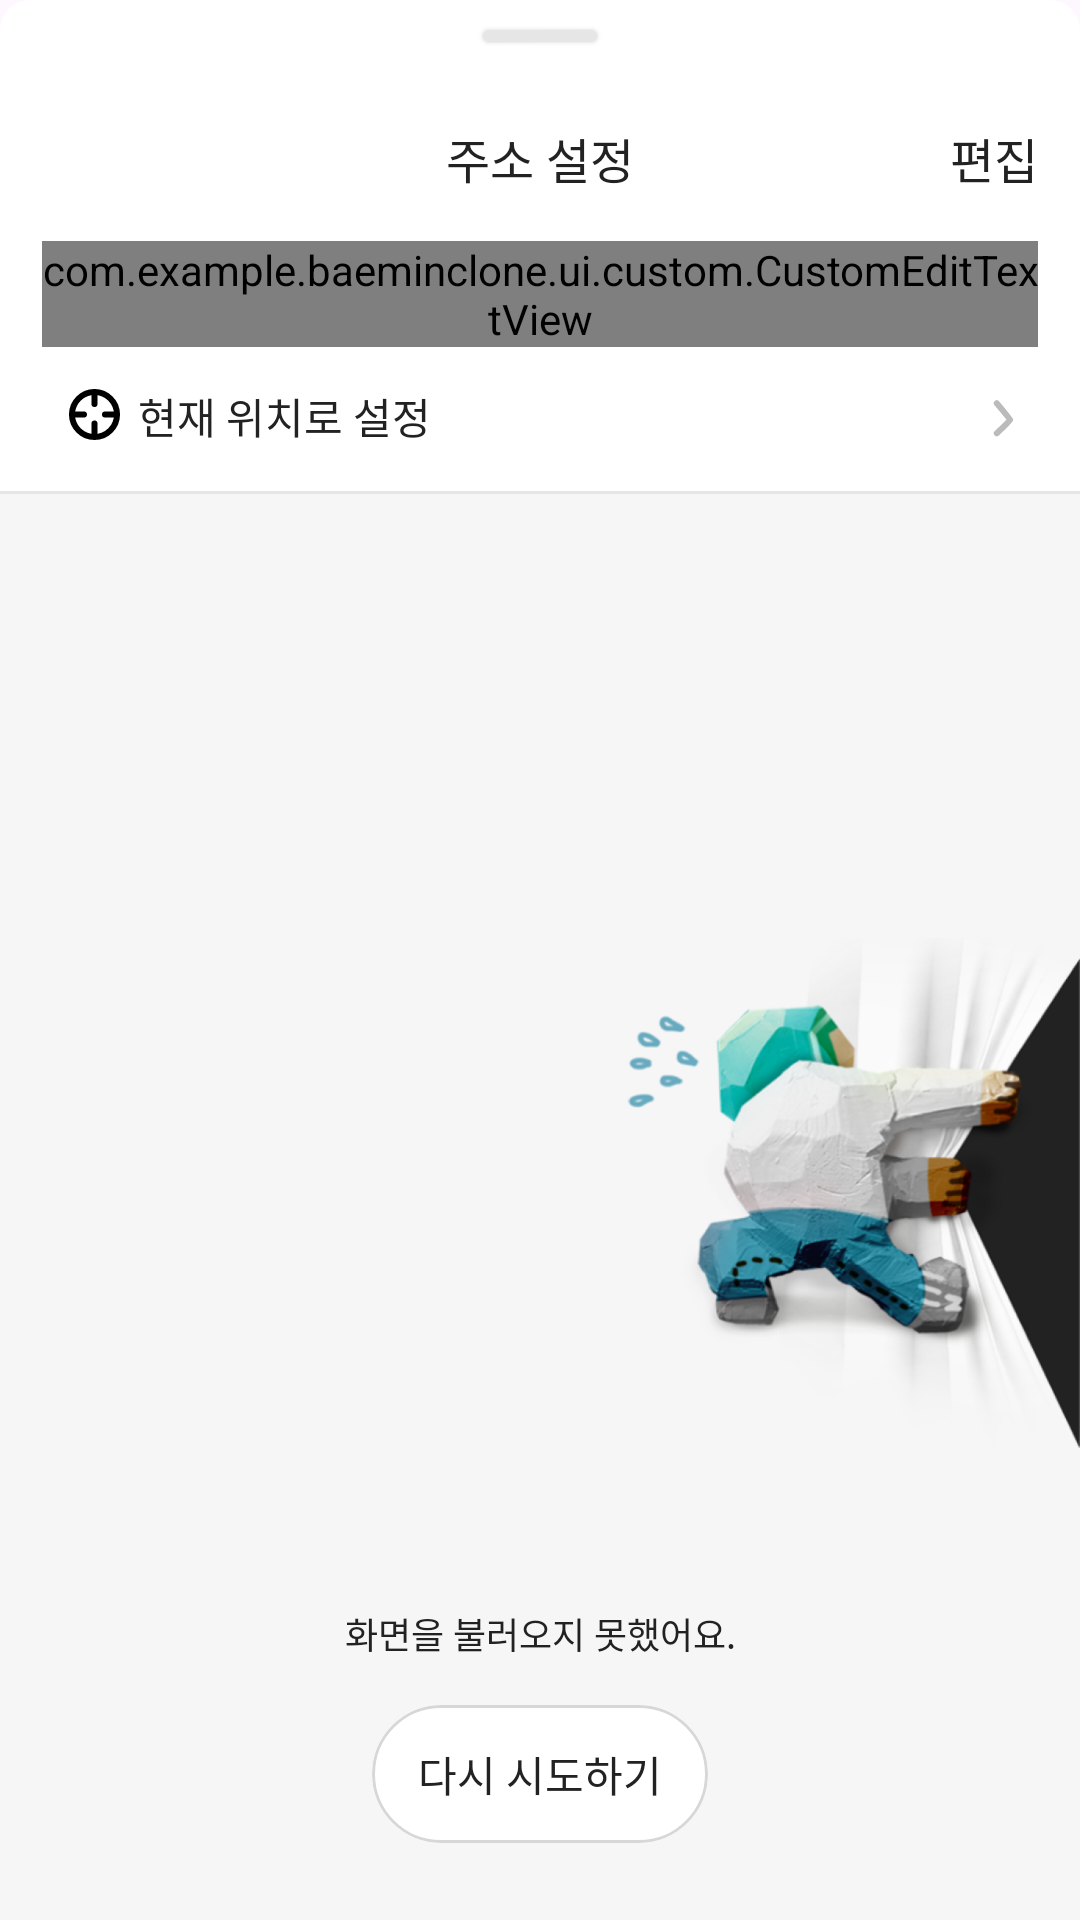

Locate icon controls on the screen. Image size 1080w x 1920h, boxes as bbox(x1, y1, x2, y2).
arrow forward: bbox(993, 400, 1013, 437)
location: bbox(69, 389, 120, 440)
